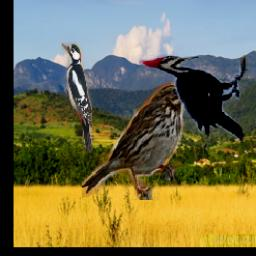Sparrow: (82, 82, 192, 200)
Woodpecker: (140, 54, 249, 143), (61, 43, 92, 153)
